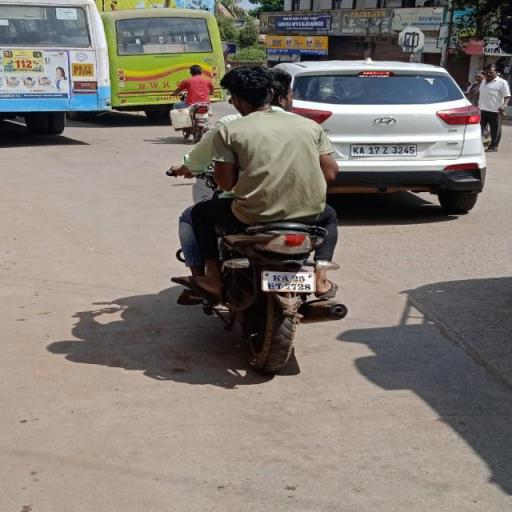bike: (164, 62, 356, 373)
numberplate: (262, 271, 316, 294)
withouthelmet: (226, 69, 274, 109)
